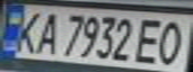2: (112, 15, 139, 63)
3: (96, 12, 121, 61)
7: (57, 10, 84, 56)
9: (78, 11, 100, 60)
A: (30, 9, 63, 55)
E: (133, 16, 169, 65)
K: (9, 8, 45, 54)
O: (151, 17, 193, 68)
